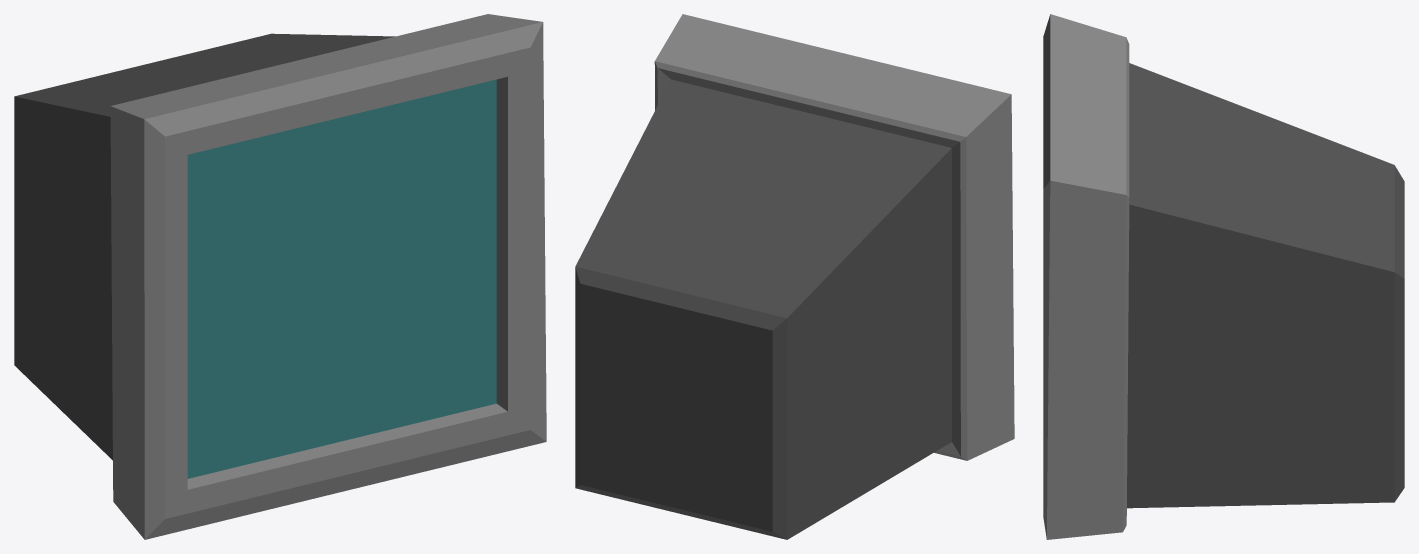
3 views of the same model, side by side, from view 1: azimuth 30°, elevation 25°; view 2: azimuth 150°, elevation 25°; view 3: azimuth 270°, elevation 25° (orthographic). The views are drawn at different scales.
Visible parts, largest first — view 1: Television A; view 2: Television A; view 3: Television A.
Boxes of the visible parts, bbox=[...] form: Television A: bbox=[14, 14, 546, 539]; Television A: bbox=[575, 14, 1014, 539]; Television A: bbox=[1043, 14, 1404, 539].
Size of the model in its own units: 439 by 437 by 399.
